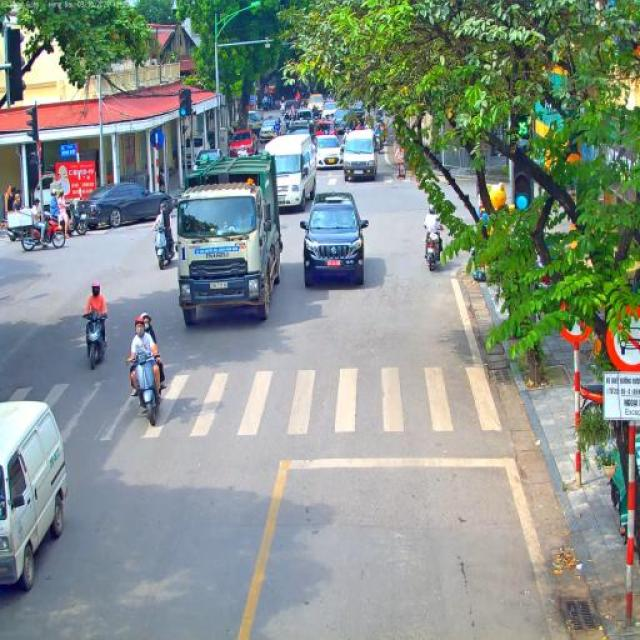car: (300, 192, 366, 288), (75, 180, 177, 230), (264, 133, 318, 212), (314, 134, 342, 170), (227, 130, 258, 158), (285, 120, 316, 145), (192, 149, 227, 170), (258, 118, 284, 144), (245, 110, 263, 139), (335, 109, 357, 131), (314, 120, 338, 140), (292, 108, 316, 128), (306, 93, 325, 113), (321, 101, 337, 121), (352, 102, 366, 123)
motorcycle: (126, 351, 162, 427), (5, 208, 66, 251), (44, 199, 88, 237), (82, 310, 109, 370), (153, 224, 176, 270), (423, 229, 442, 272), (372, 129, 382, 153), (340, 135, 349, 153), (284, 118, 291, 136), (278, 104, 287, 118), (260, 100, 270, 111), (287, 111, 295, 122)
truck: (170, 149, 284, 326), (0, 400, 70, 594), (343, 128, 378, 182)
